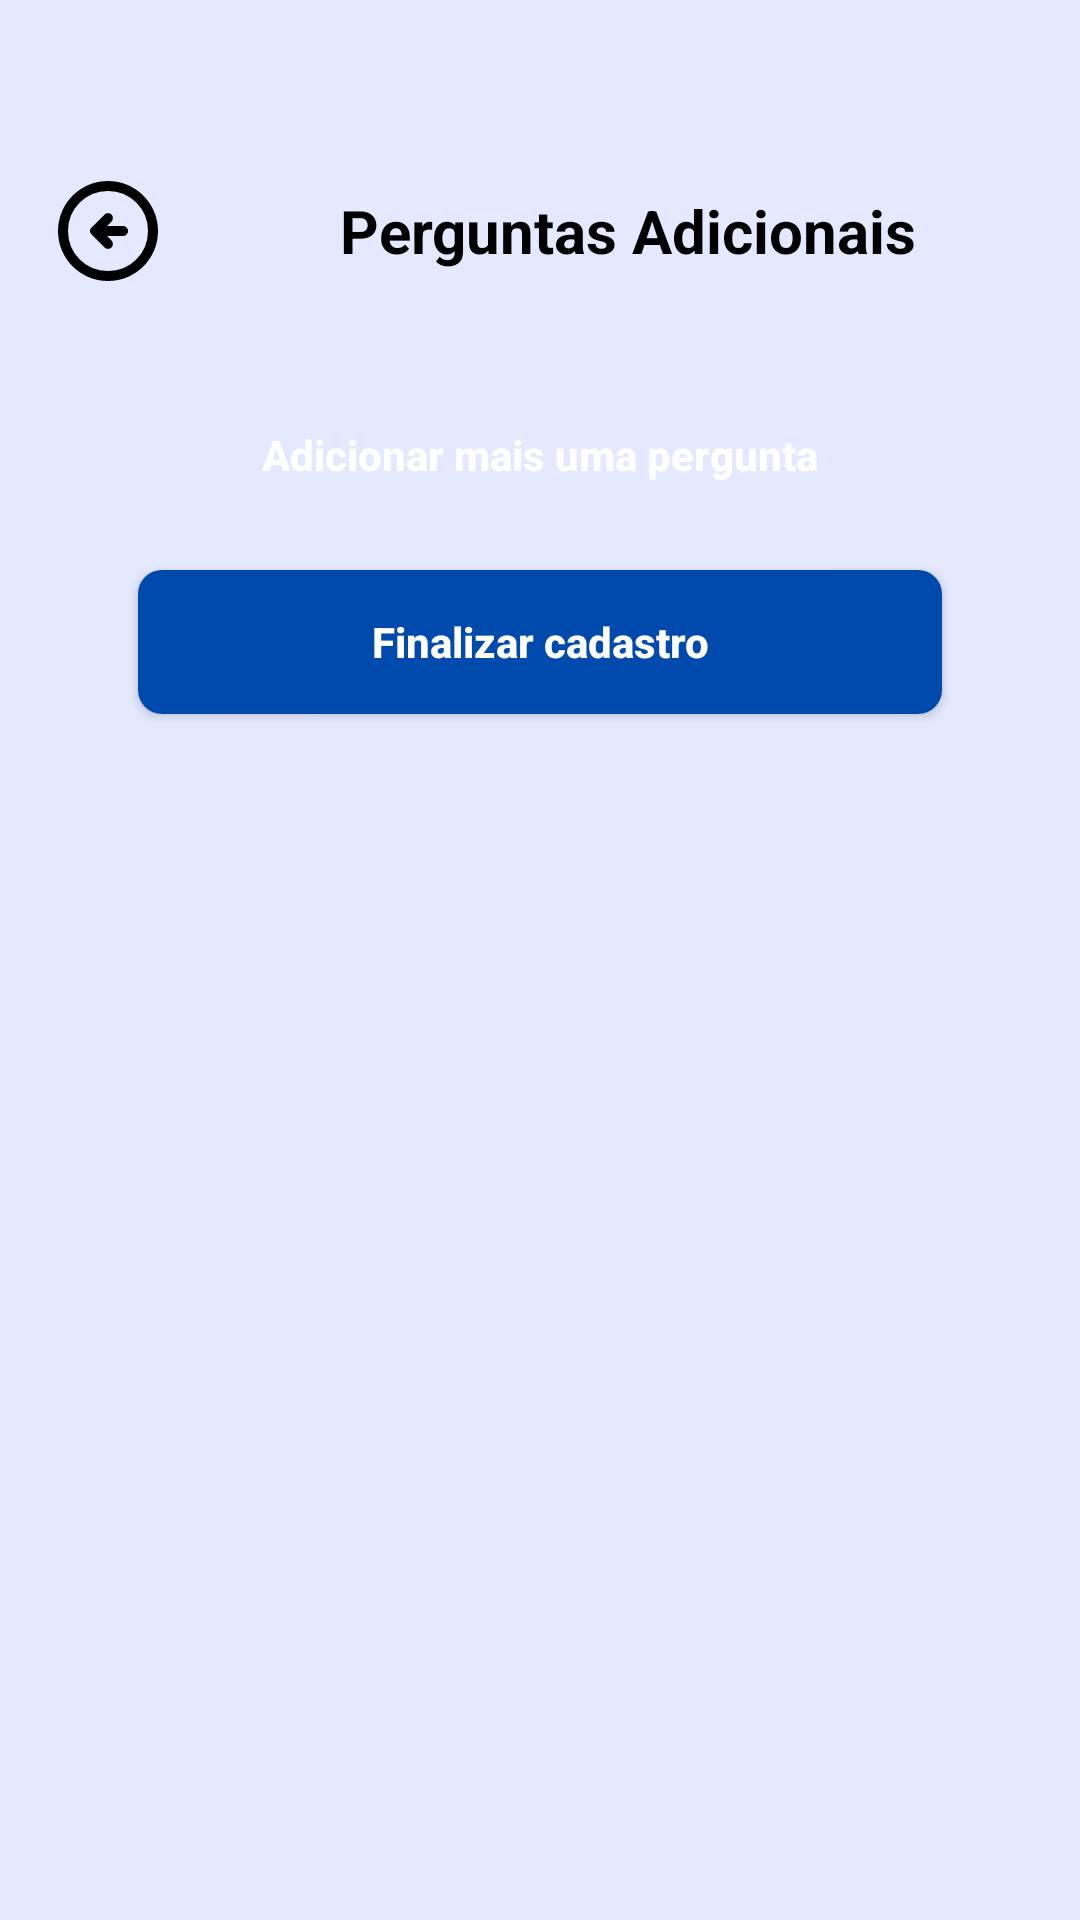

Named icons in this screenshot (1080 × 1920) and their centers, [x,y]:
back: [108,231]
